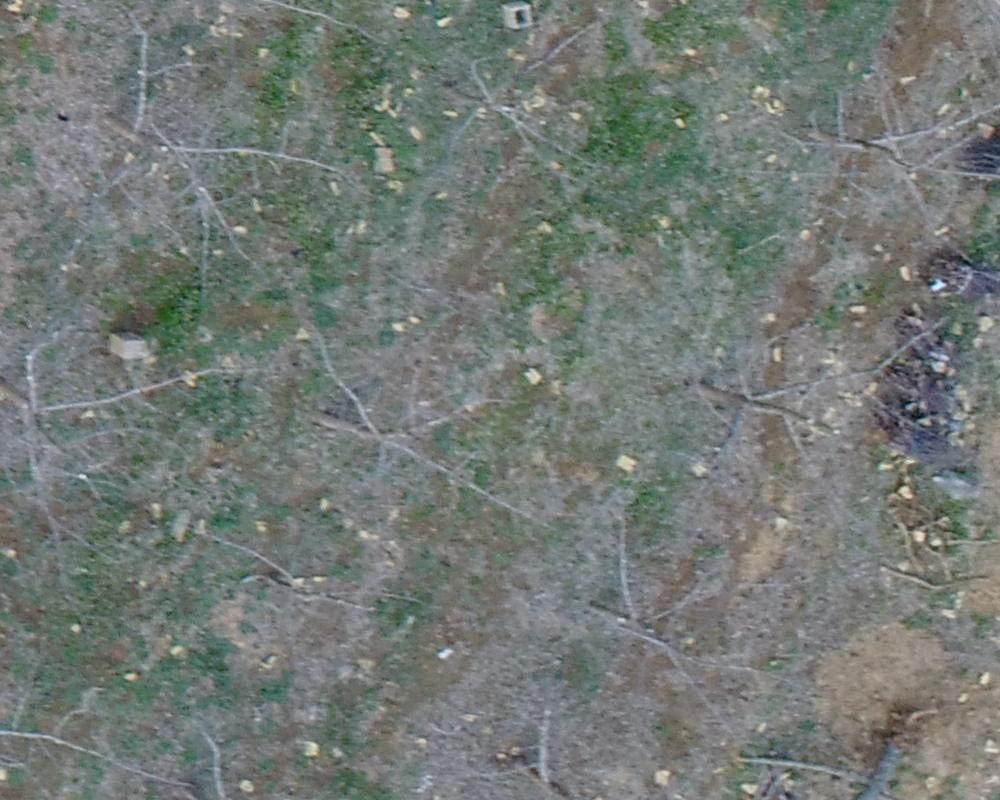apple: (29, 18, 358, 288), (261, 335, 528, 547), (666, 315, 966, 483), (10, 329, 229, 544), (541, 524, 776, 723), (763, 62, 990, 257), (419, 12, 634, 192)
